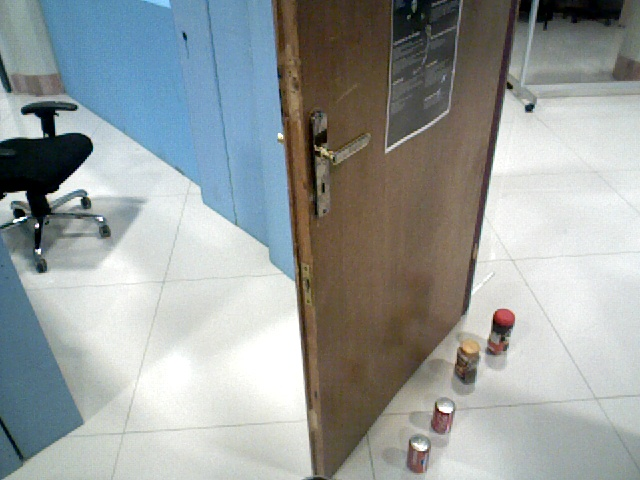coca: (430, 398, 454, 435)
coffee: (456, 340, 478, 387)
cream: (489, 308, 514, 356)
door_handle: (306, 108, 377, 219)
fanta: (408, 434, 431, 474)
